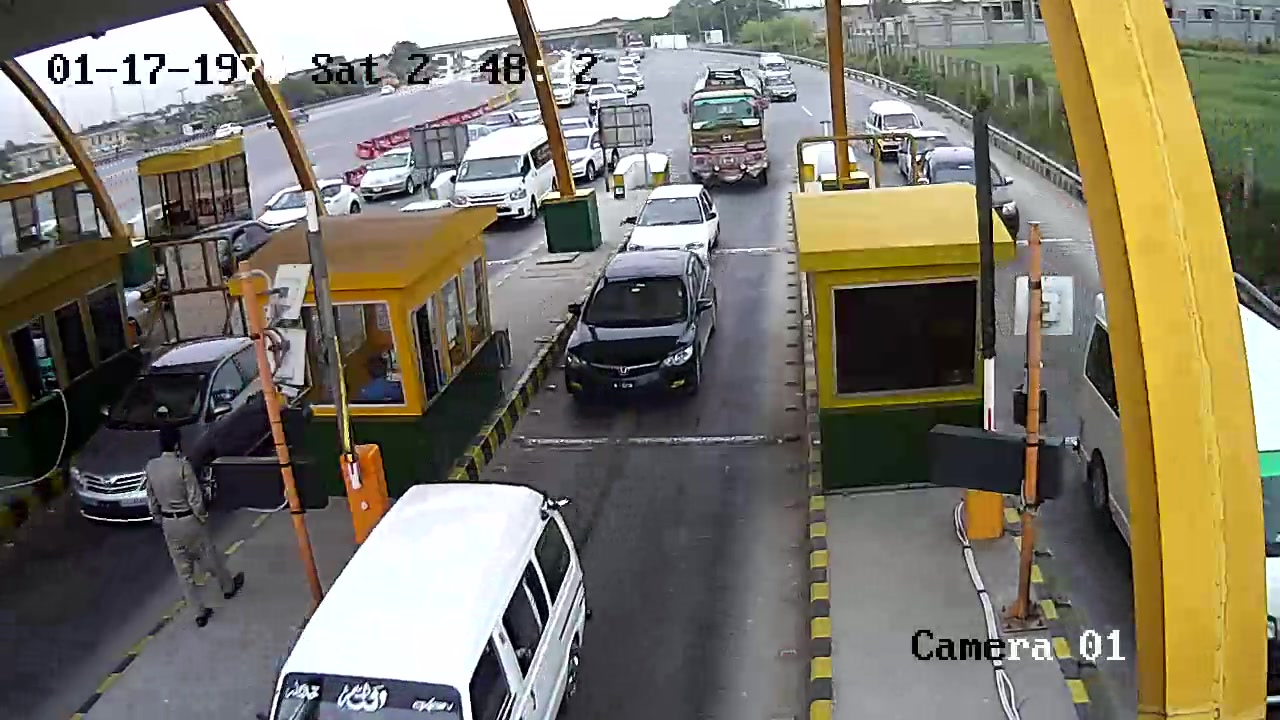F1: (555, 246, 734, 420)
